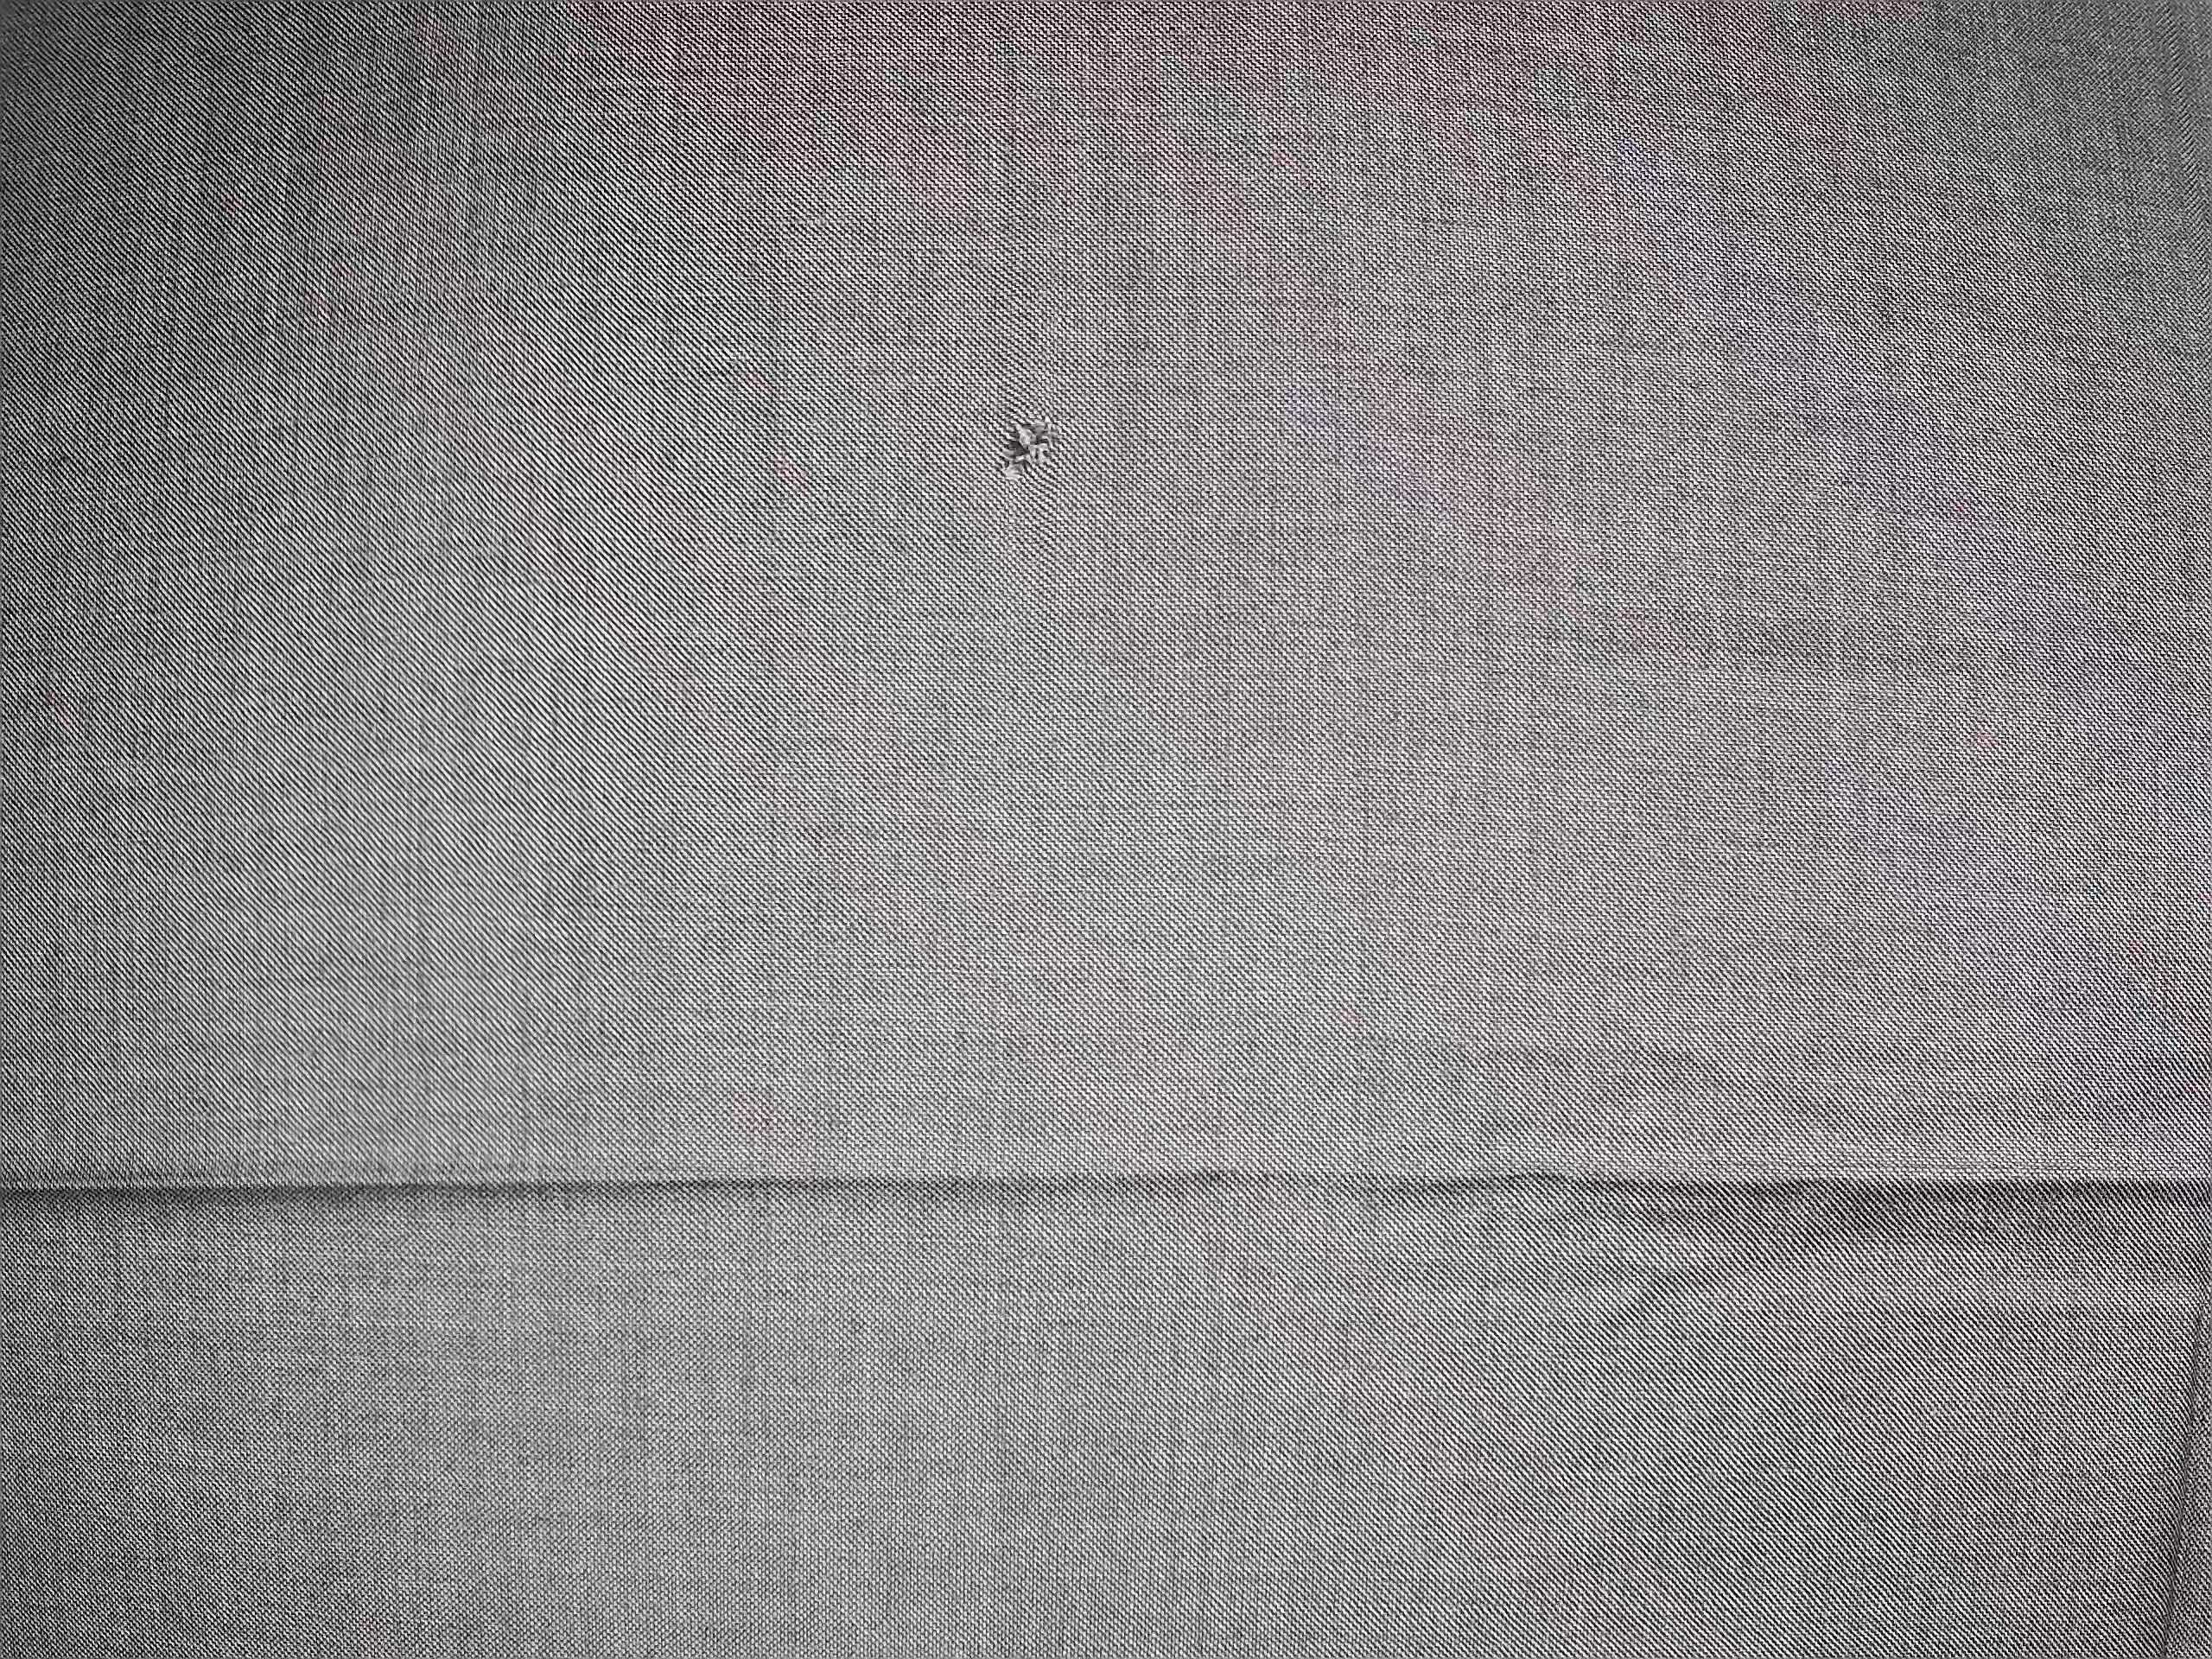rubbing-hole: (972, 394, 1085, 500)
